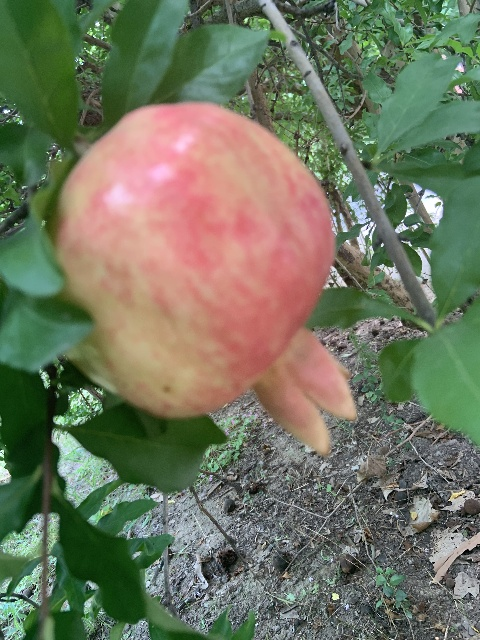ripe: (47, 100, 354, 456)
